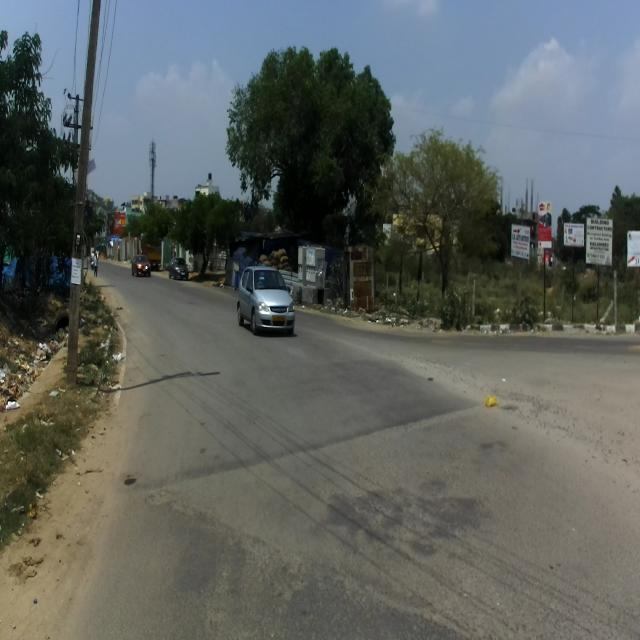car ahead at: (231, 260, 296, 346)
electric pole ahead at: (64, 0, 100, 391)
